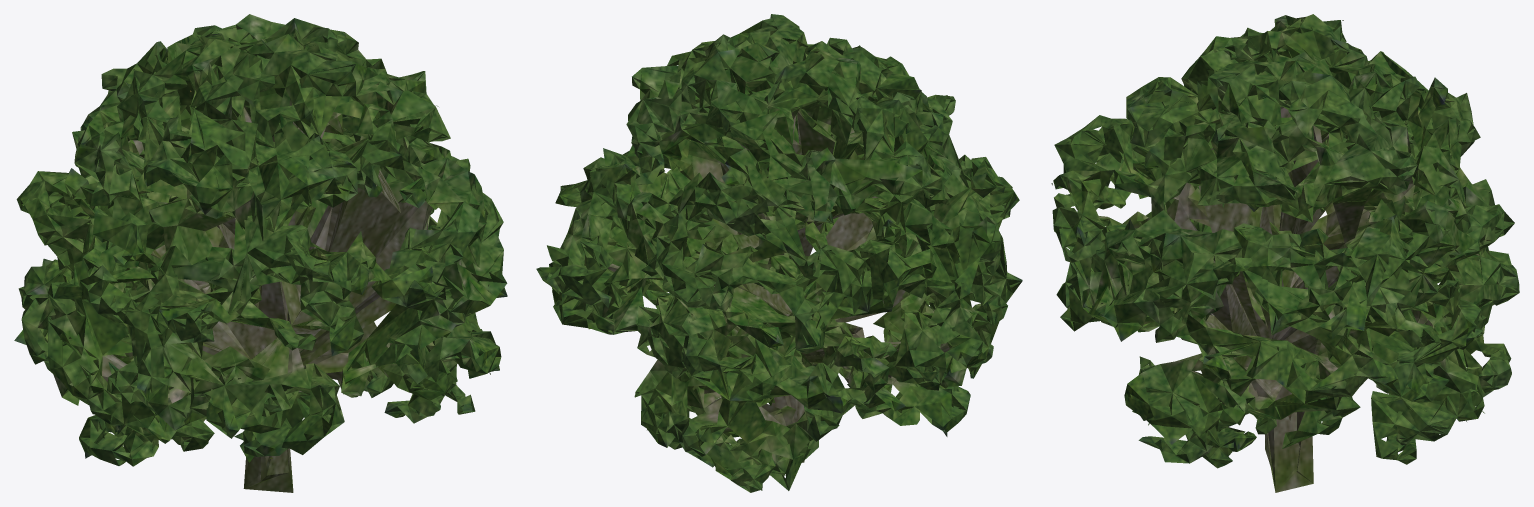
File: tree_oak.glb
The picture shows the model from 3 angles, left to right: view 1: azimuth 30°, elevation 25°; view 2: azimuth 150°, elevation 25°; view 3: azimuth 270°, elevation 25°; orthographic projection. The views are drawn at different scales.
Parts seen in each view (by area): view 1: geometry_0; view 2: geometry_0; view 3: geometry_0.
Boxes of the visible parts, x1,y1,x2,y2 form: geometry_0: [14, 14, 507, 492]; geometry_0: [536, 14, 1022, 492]; geometry_0: [1051, 14, 1519, 492].
Bounding box in the file's own units: 0.9869 × 1 × 0.9541.
Materials: 1 (1 with a texture image).
